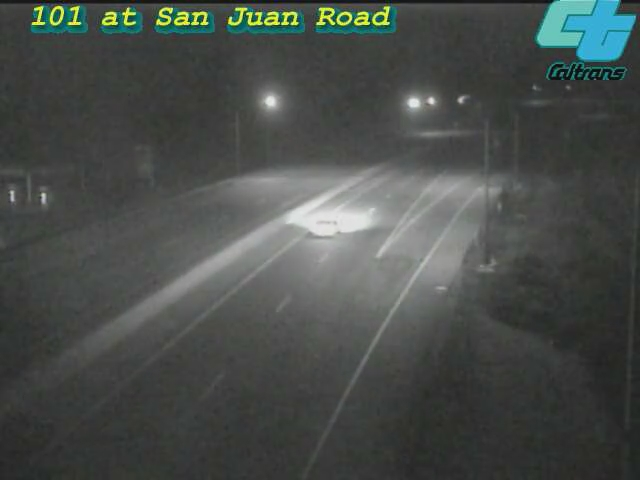vehicle: (284, 187, 364, 267)
